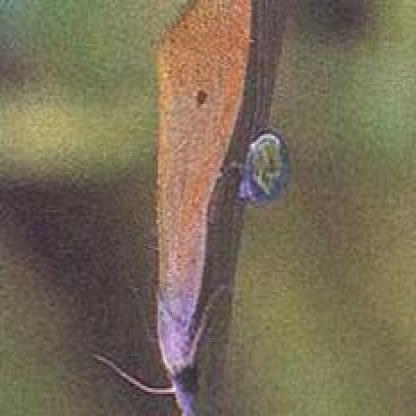stem-borer: (147, 0, 243, 416)
